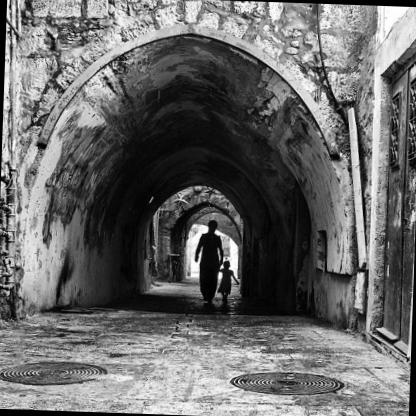manholes: (223, 361, 358, 406), (0, 349, 113, 394)
